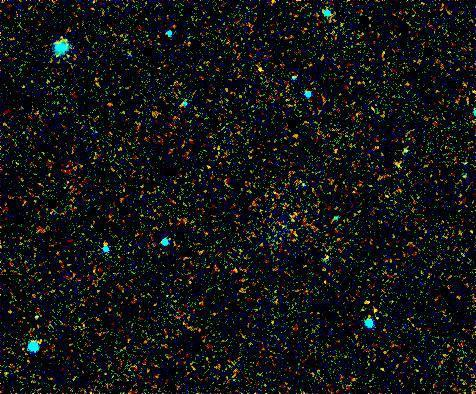star: (244, 56, 274, 86)
